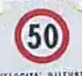limite 50: (12, 7, 69, 64)
